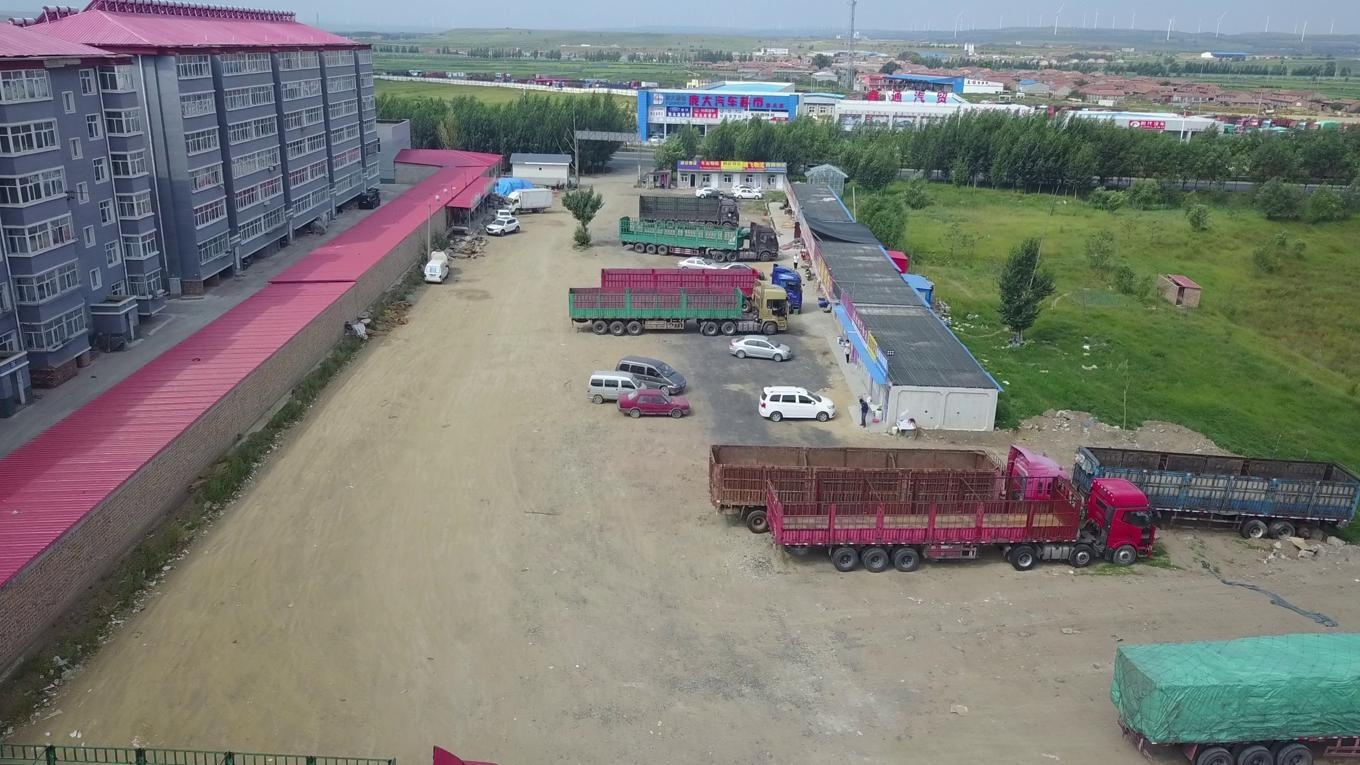car: (758, 384, 836, 421), (614, 355, 685, 394), (615, 389, 691, 420), (585, 367, 647, 404), (729, 334, 792, 362), (716, 261, 764, 280), (676, 255, 720, 274), (484, 216, 521, 236), (424, 258, 448, 283), (694, 186, 725, 199), (734, 187, 764, 200), (357, 192, 381, 208), (732, 184, 762, 195), (495, 208, 512, 220)
pedestrian: (858, 396, 869, 427), (841, 339, 849, 364), (793, 252, 798, 270)
truck: (764, 465, 1159, 574), (707, 439, 1074, 534), (1111, 631, 1360, 758), (1070, 440, 1358, 537), (566, 277, 790, 337), (598, 263, 802, 317), (617, 214, 778, 263), (637, 191, 740, 229), (501, 187, 552, 214)
